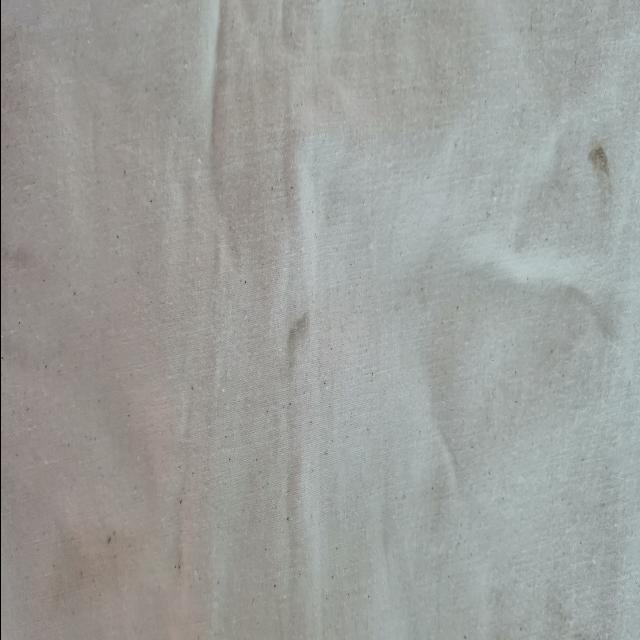taaaches: (578, 109, 626, 223), (273, 280, 325, 376)
